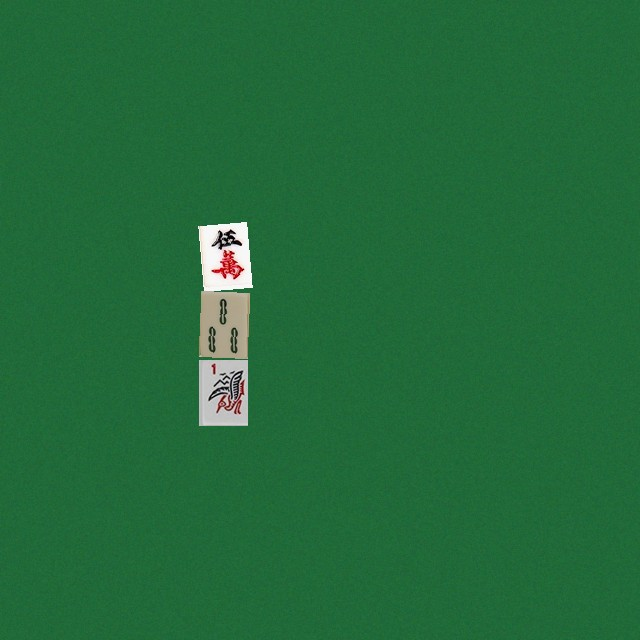tile: (198, 221, 247, 287), (198, 290, 247, 356), (198, 359, 247, 425)
